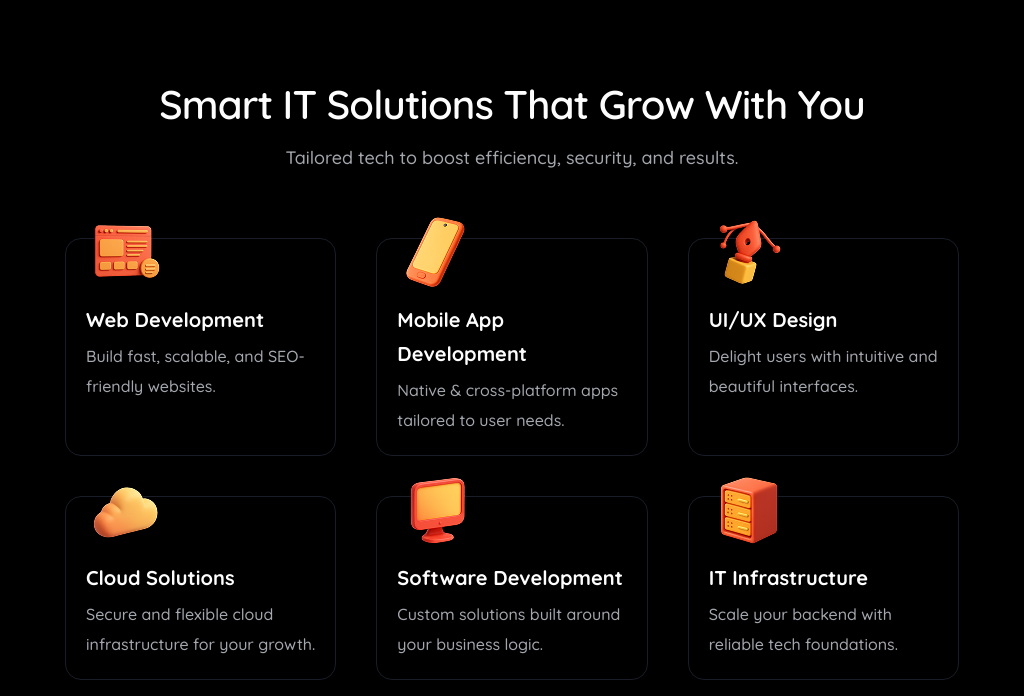
ITServices › shows a different service after closing and opening another card
This screenshot has width=1024, height=696.
Step 1. Click the button "Web Development" → coordinates (201, 347), box [65, 238, 336, 456]
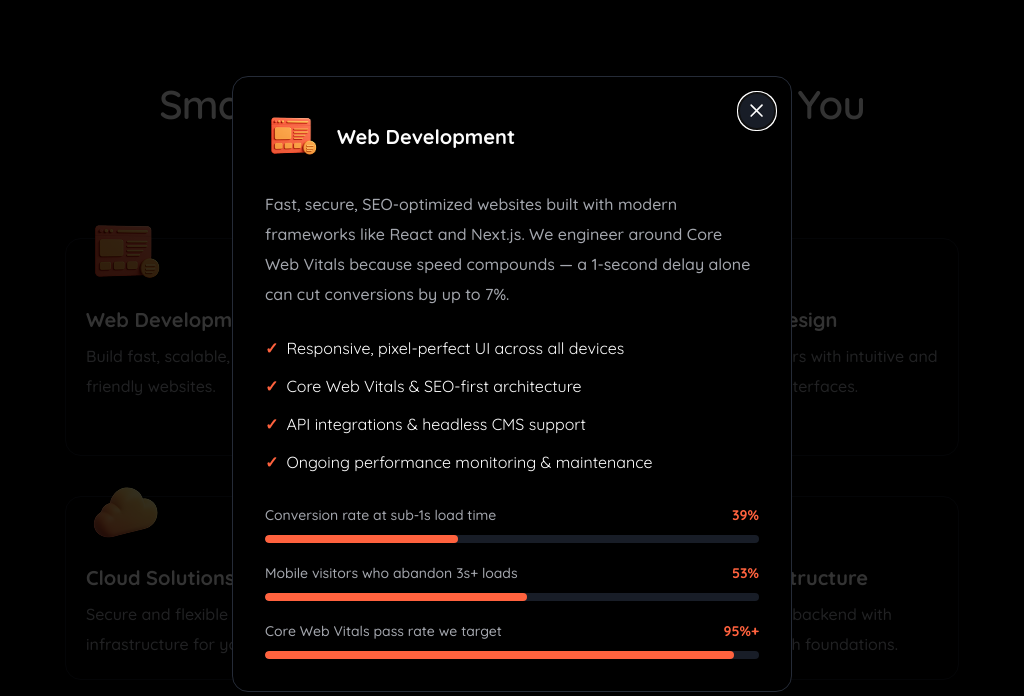
Expected: the heading "Web Development" is shown, [337, 120, 515, 154]
Step 2. Click the button named "Close details" → coordinates (757, 111), box [739, 93, 775, 129]
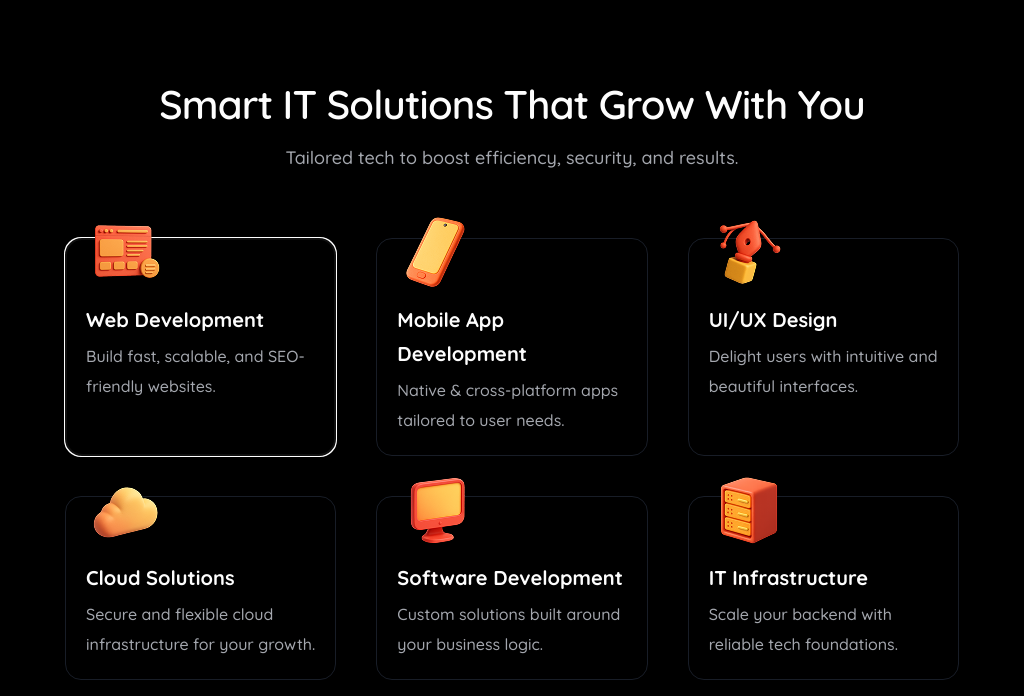
Step 3. Click the button "Mobile App Development" → coordinates (512, 347), box [376, 238, 648, 456]
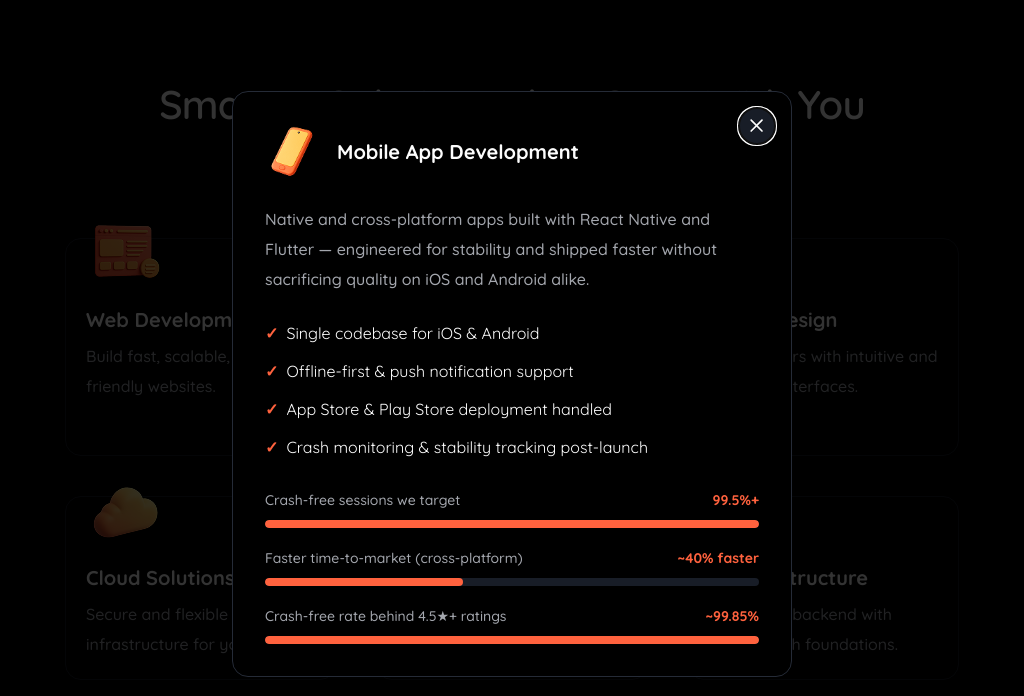
Expected: the heading "Mobile App Development" is shown, [337, 135, 579, 169]
